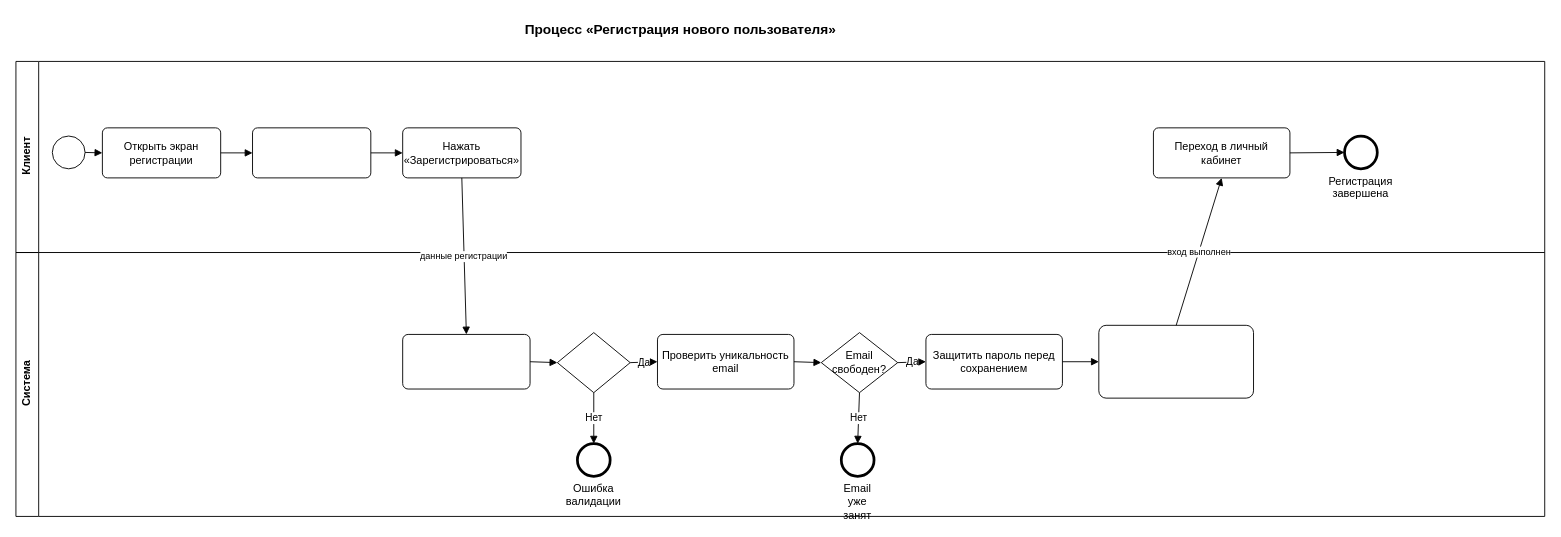
The diagram is 1561 pixels wide and 537 high, and some of its shapes have lost their labels. Each missing label, with the centre of its shape:
"Ввести email, пароль, имя, телефон" belongs at [311,152].
"Данные верны?" belongs at [593,362].
"Начало" belongs at [68,152].
"Проверить корректность полей" belongs at [466,361].
"Создать учётную запись клиента и сессию" belongs at [1176,361].
